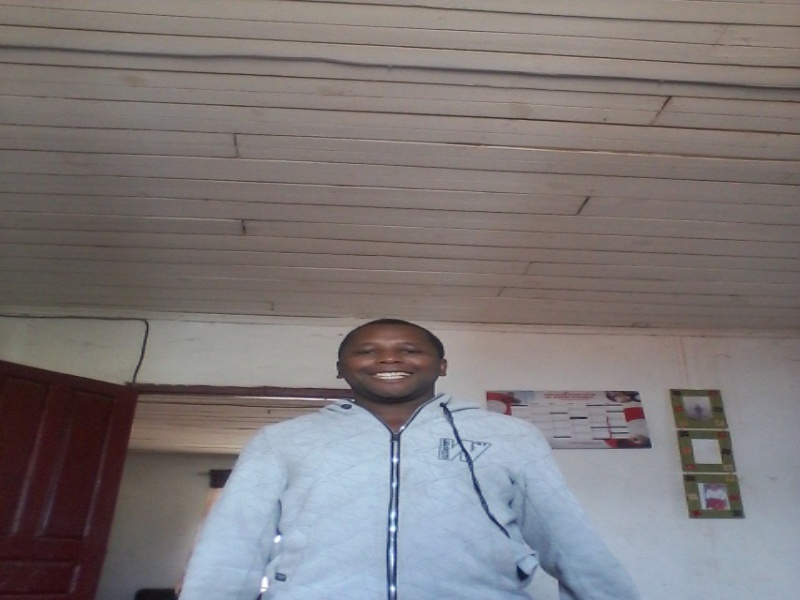TsisyArotava: (329, 308, 454, 413)
